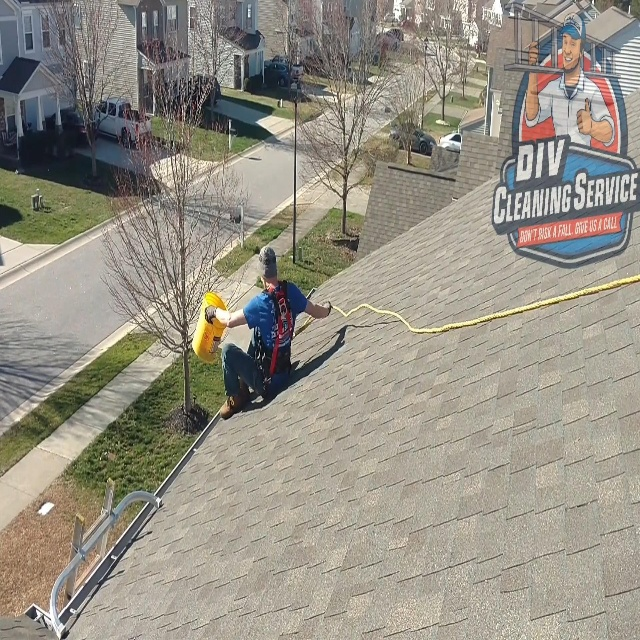Arnes_seguridad: (250, 273, 300, 398)
